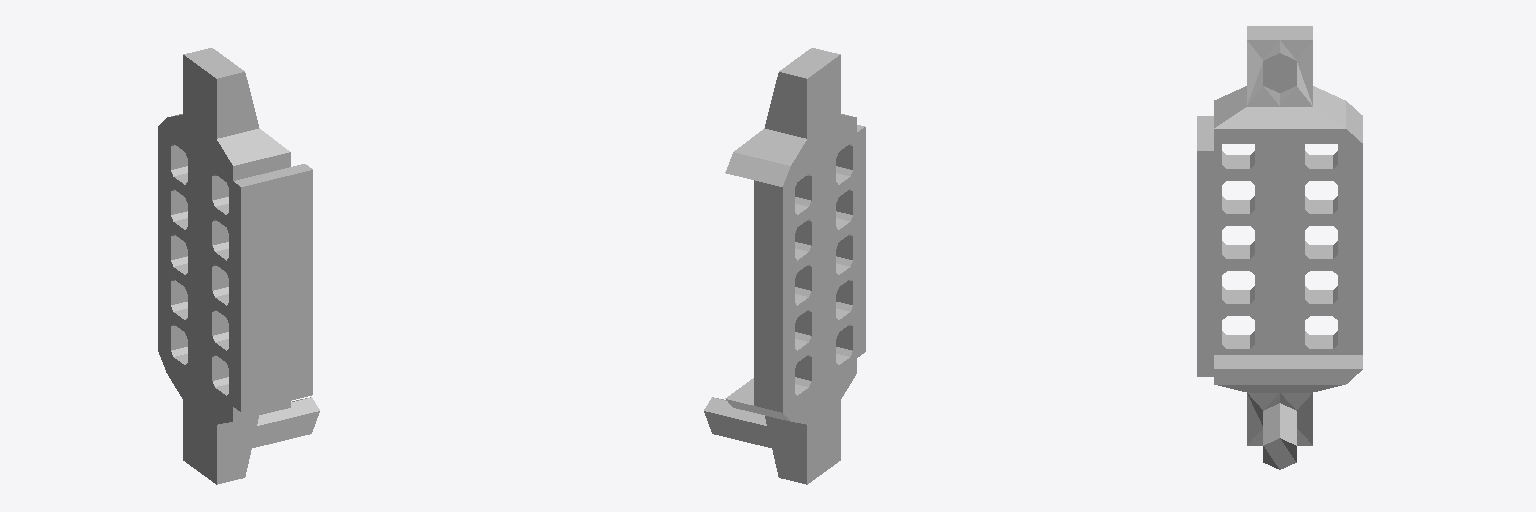
Rendered from secondarm.obj.
The picture shows the model from 3 angles: view 1: azimuth 30°, elevation 25°; view 2: azimuth 150°, elevation 25°; view 3: azimuth 270°, elevation 25°; orthographic projection.
Parts seen in each view (by area): view 1: SECONDARM_mesh.003; view 2: SECONDARM_mesh.003; view 3: SECONDARM_mesh.003.
Boxes of the visible parts, box(x1,y1,x2,y2) form: SECONDARM_mesh.003: box(158, 48, 319, 484); SECONDARM_mesh.003: box(704, 48, 865, 484); SECONDARM_mesh.003: box(1197, 26, 1362, 469).
Size of the model in its own units: 0.78 by 2.7 by 1.